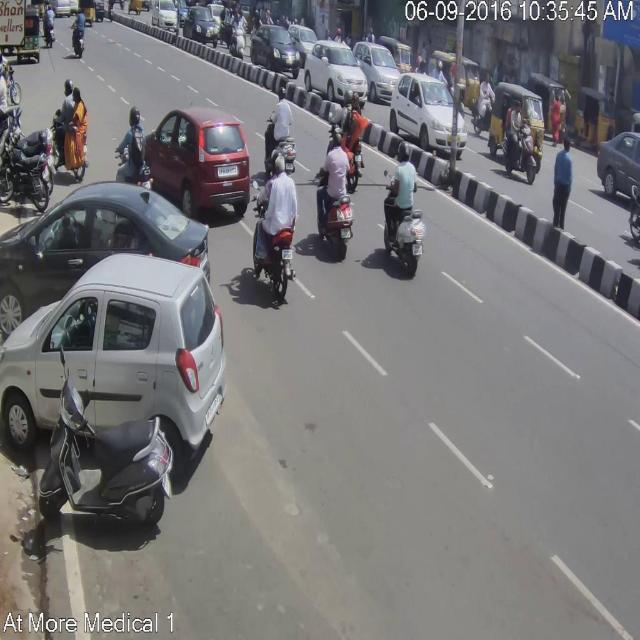with helmet: (396, 140, 409, 160), (268, 151, 280, 171), (343, 90, 352, 104), (278, 86, 286, 98)
without helmet: (274, 156, 286, 172), (351, 92, 359, 106), (333, 132, 341, 144)
